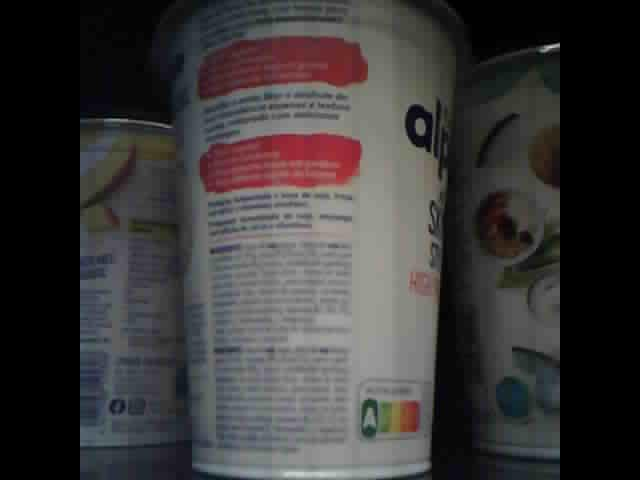alpro: (150, 1, 469, 480), (459, 44, 560, 460), (81, 112, 188, 448)
